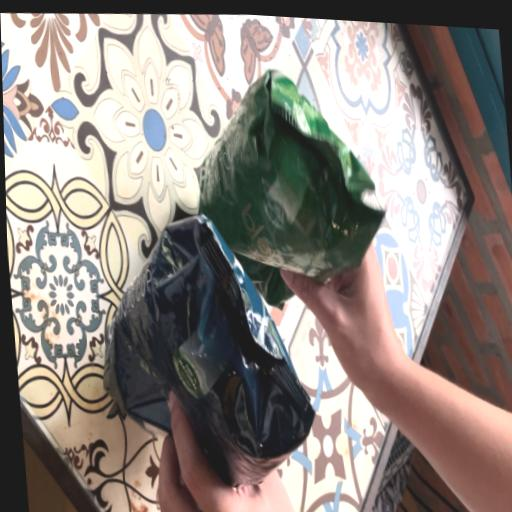cafe_hat: (105, 215, 314, 486)
cafe_xay: (198, 71, 383, 306)
